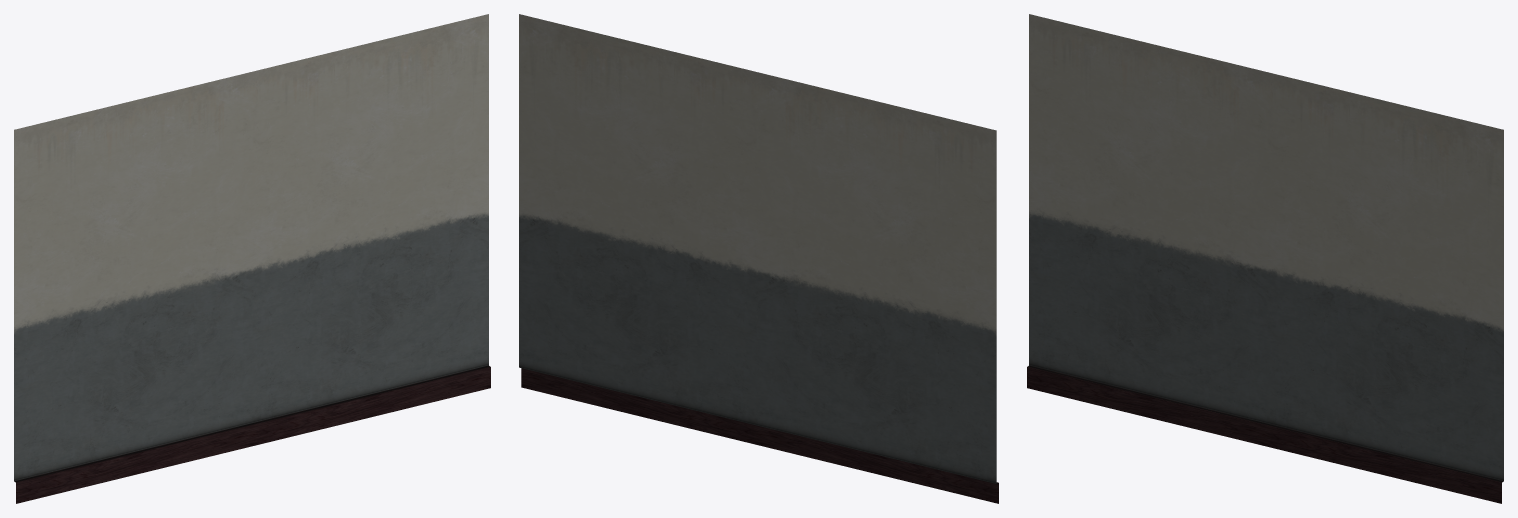
Rendered from Wall 4 4m Exploded.fbx.
3 views of the same model, side by side, from view 1: azimuth 30°, elevation 25°; view 2: azimuth 150°, elevation 25°; view 3: azimuth 330°, elevation 25° (orthographic).
Parts seen in each view (by area): view 1: F, C, A, H, G, B, E, D; view 2: C, F, G, B, A, H, D, E; view 3: C, F, H, A, B, D, G, E.
Part boxes in pixels (x1=…): F: x1=310, y1=43, x2=372, y2=431; C: x1=132, y1=86, x2=194, y2=474; A: x1=14, y1=115, x2=75, y2=503; H: x1=429, y1=14, x2=490, y2=402; G: x1=370, y1=28, x2=431, y2=416; B: x1=73, y1=101, x2=134, y2=489; E: x1=251, y1=57, x2=312, y2=445; D: x1=192, y1=72, x2=253, y2=460; C: x1=817, y1=87, x2=879, y2=474; F: x1=638, y1=43, x2=700, y2=430; G: x1=578, y1=28, x2=640, y2=416; B: x1=877, y1=101, x2=939, y2=489; A: x1=937, y1=116, x2=998, y2=503; H: x1=519, y1=14, x2=580, y2=401; D: x1=758, y1=72, x2=819, y2=459; E: x1=698, y1=58, x2=759, y2=445; C: x1=1145, y1=43, x2=1207, y2=431; F: x1=1323, y1=86, x2=1385, y2=474; H: x1=1442, y1=115, x2=1503, y2=503; A: x1=1027, y1=14, x2=1088, y2=402; B: x1=1086, y1=28, x2=1147, y2=416; D: x1=1205, y1=57, x2=1266, y2=445; G: x1=1383, y1=101, x2=1444, y2=489; E: x1=1264, y1=72, x2=1325, y2=460.
Size of the model in its own units: 400 by 300 by 3.
